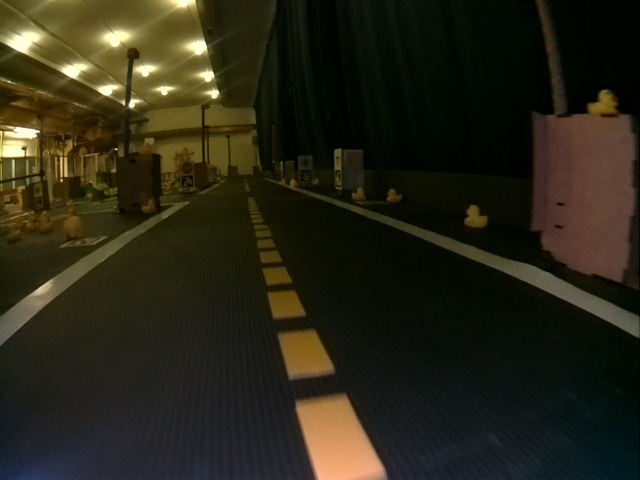Duckie: (588, 89, 617, 114), (465, 204, 487, 229), (65, 217, 84, 238), (143, 200, 156, 212), (25, 216, 37, 229), (353, 188, 365, 199), (388, 191, 402, 200), (140, 143, 149, 152), (290, 181, 298, 188)
QR code: (66, 236, 105, 246), (183, 176, 191, 186)
